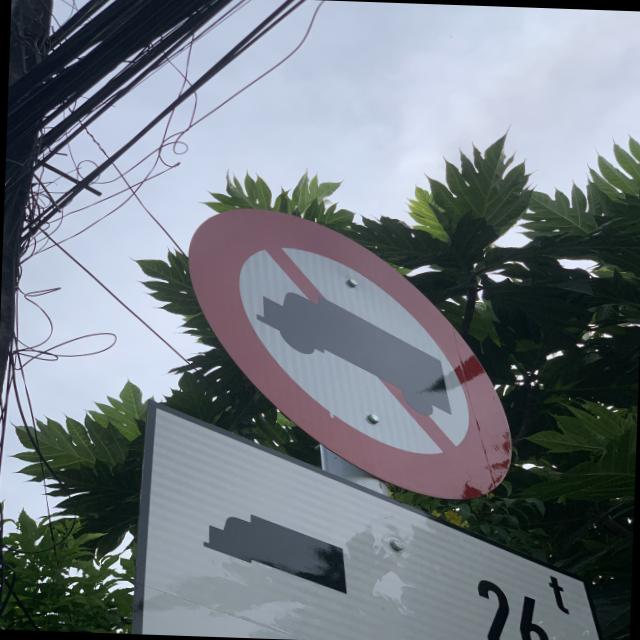Cam_Xe_Tai: (177, 202, 523, 501)
